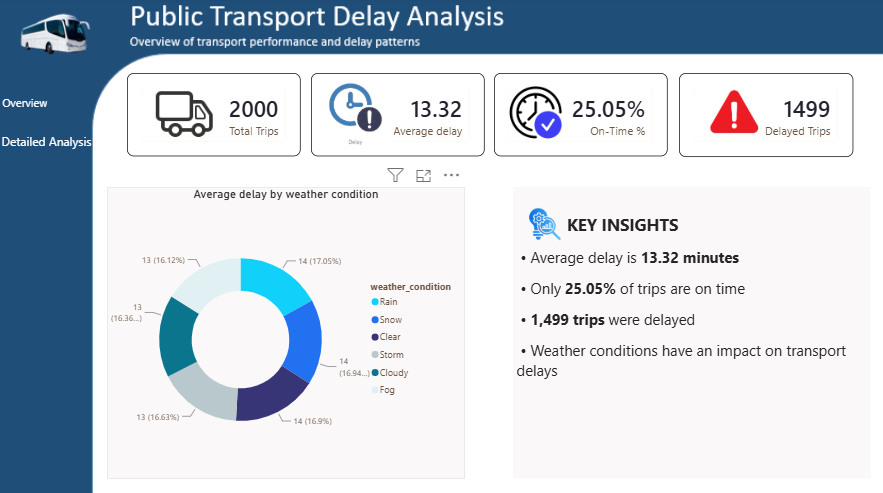

This screenshot's page, from the dashboard's own definition file:
{"tool":"powerbi","page":{"name":"Overview","canvas":[1280,720],"ordinal":0},"visuals":[{"type":"cardVisual","fields":{"Data":["CountNonNull(transport_delays_cleaned.trip_id)"]},"box":[185.7,110,250,120],"z":0},{"type":"cardVisual","fields":{"Data":["Avg(transport_delays_cleaned.actual_arrival_delay_min)"]},"box":[451.4,110,250,120],"z":1000},{"type":"cardVisual","fields":{"Data":["transport_delays_cleaned.On-Time %"]},"box":[714.3,110,250,120],"z":2000},{"type":"cardVisual","fields":{"Data":["transport_delays_cleaned.Delayed Trips"]},"box":[980.6,109.4,250.6,121],"z":3000},{"type":"donutChart","title":"Average delay by weather condition","fields":{"Category":["transport_delays_cleaned.weather_condition"],"Y":["Avg(transport_delays_cleaned.actual_arrival_delay_min)"]},"box":[157,273.6,515.5,420.5],"z":4000},{"type":"image","box":[210,128.6,115.7,81.4],"z":5000},{"type":"image","box":[388.6,120,251.4,100],"z":6000},{"type":"image","box":[714.3,128.6,120,75.7],"z":7000},{"type":"image","box":[1015.7,128.6,90,74.3],"z":8000},{"type":"textbox","box":[741.6,273.6,515,420],"z":9000},{"type":"image","box":[761.8,295.2,53.3,64.8],"z":10000},{"type":"pageNavigator","box":[0,133.9,135.4,95],"z":11000}]}

Visuals, with their boxes on the page's 1280x720 design canvas (x1, y1, x2, y2). These are canvas units, not pixel positions in the 883x493 screenshot, which may show the page scaled, cropped or inside an application window:
cardVisual - CountNonNull(transport_delays_cleaned.trip_id): 186, 110, 436, 230
cardVisual - Avg(transport_delays_cleaned.actual_arrival_delay_min): 451, 110, 701, 230
cardVisual - transport_delays_cleaned.On-Time %: 714, 110, 964, 230
cardVisual - transport_delays_cleaned.Delayed Trips: 981, 109, 1231, 230
"Average delay by weather condition" donutChart: 157, 274, 672, 694
image: 210, 129, 326, 210
image: 389, 120, 640, 220
image: 714, 129, 834, 204
image: 1016, 129, 1106, 203
textbox: 742, 274, 1257, 694
image: 762, 295, 815, 360
pageNavigator: 0, 134, 135, 229
